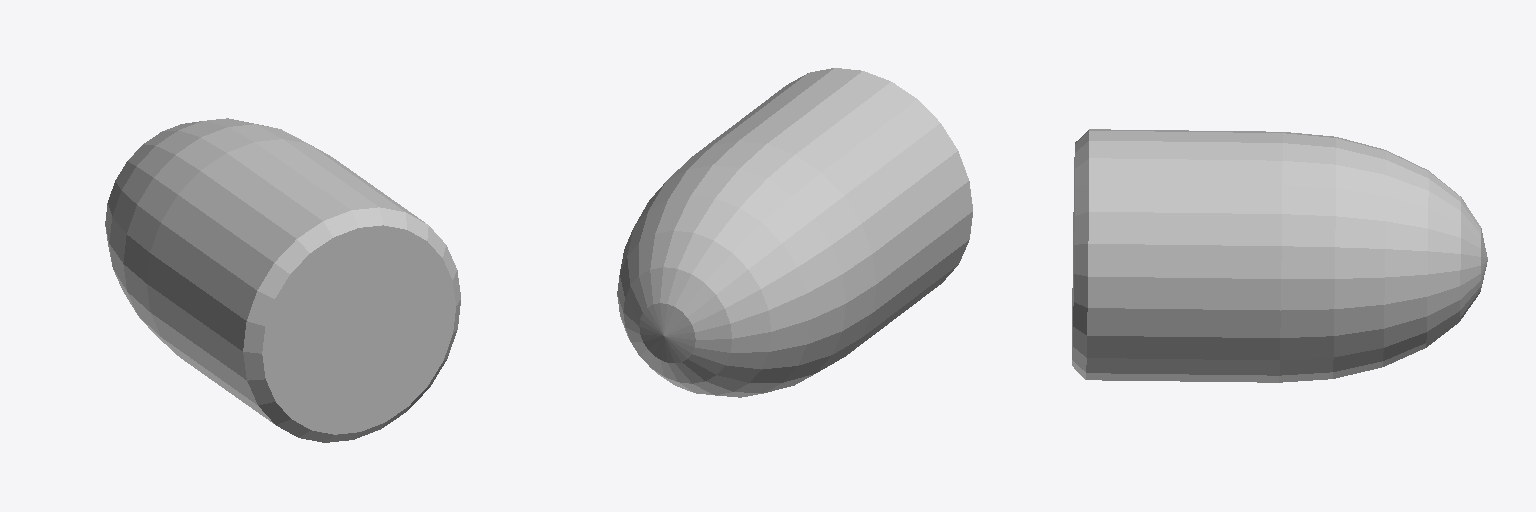
Rendered from bullet.obj.
3 views of the same model, side by side, from view 1: azimuth 30°, elevation 25°; view 2: azimuth 150°, elevation 25°; view 3: azimuth 270°, elevation 25° (orthographic).
Parts seen in each view (by area): view 1: Mesh_Mesh.013_Bullet_2; view 2: Mesh_Mesh.013_Bullet_2; view 3: Mesh_Mesh.013_Bullet_2.
Boxes of the visible parts, x1,y1,x2,y2 form: Mesh_Mesh.013_Bullet_2: [105, 118, 460, 442]; Mesh_Mesh.013_Bullet_2: [617, 68, 972, 397]; Mesh_Mesh.013_Bullet_2: [1072, 129, 1487, 382].
Size of the model in its own units: 0.45 by 0.4549 by 0.7428.